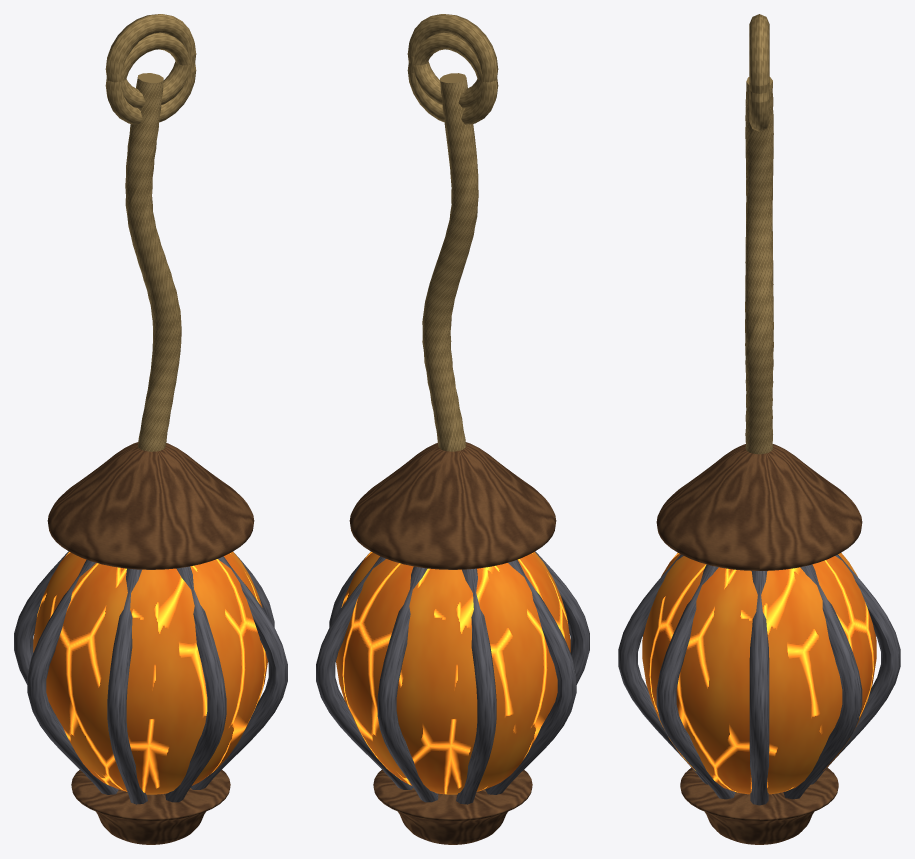
Rendered from prp_hanging_acorn_amber_lantern.glb.
3 renders of one model, left to right at view 1: azimuth 30°, elevation 25°; view 2: azimuth 150°, elevation 25°; view 3: azimuth 270°, elevation 25°, orthographic.
Visible parts, largest first — view 1: glass, cap, ribs, rope, rope_loops, base; view 2: glass, cap, ribs, rope, rope_loops, base; view 3: glass, cap, ribs, rope, base, rope_loops.
Part boxes in pixels (box(x1,y1,x2,y2)): glass: box(33, 551, 267, 794); cap: box(47, 442, 254, 569); ribs: box(14, 551, 287, 804); rope: box(125, 73, 181, 451); rope_loops: box(105, 14, 196, 124); base: box(71, 770, 230, 844); glass: box(336, 551, 570, 794); cap: box(349, 442, 556, 569); ribs: box(316, 551, 589, 804); rope: box(422, 73, 478, 451); rope_loops: box(407, 14, 498, 124); base: box(373, 770, 532, 844); glass: box(642, 553, 876, 794); cap: box(656, 444, 862, 570); ribs: box(618, 554, 900, 805); rope: box(745, 77, 773, 454); base: box(680, 767, 838, 844); rope_loops: box(749, 14, 769, 131).
Size of the model in its own units: 0.6208 by 1.97 by 0.6208.
Materials: 4 (4 with a texture image).
